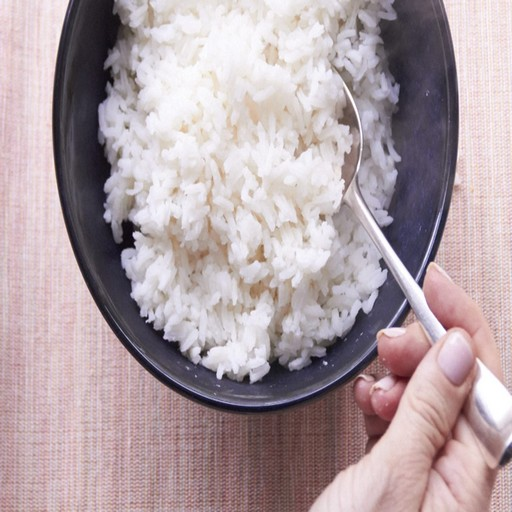rice: (147, 39, 309, 321)
